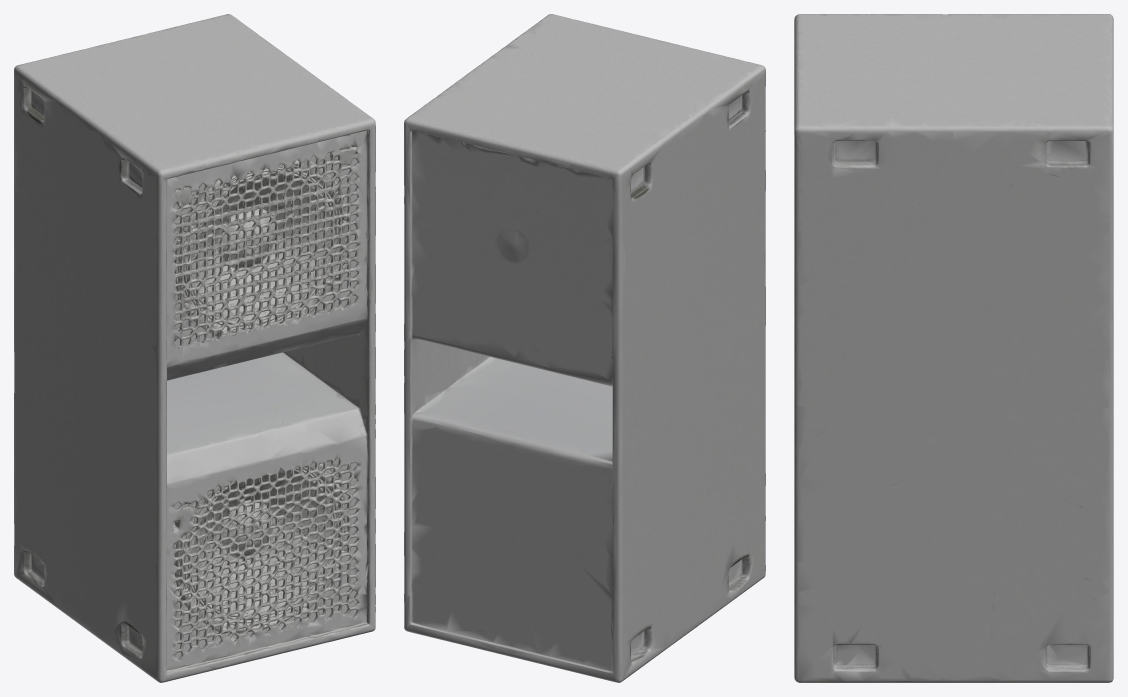
File: speaker-3.glb
The picture shows the model from 3 angles, left to right: view 1: azimuth 30°, elevation 25°; view 2: azimuth 150°, elevation 25°; view 3: azimuth 270°, elevation 25°; orthographic projection. The views are drawn at different scales.
Visible parts, largest first — view 1: mesh_node; view 2: mesh_node; view 3: mesh_node.
Part boxes in pixels (<box>): mesh_node: <box>14,14,375,682</box>; mesh_node: <box>404,14,765,682</box>; mesh_node: <box>794,14,1113,682</box>.
Bounding box in the file's own units: 0.89 × 2 × 1.04.
Materials: 1 (1 with a texture image).
